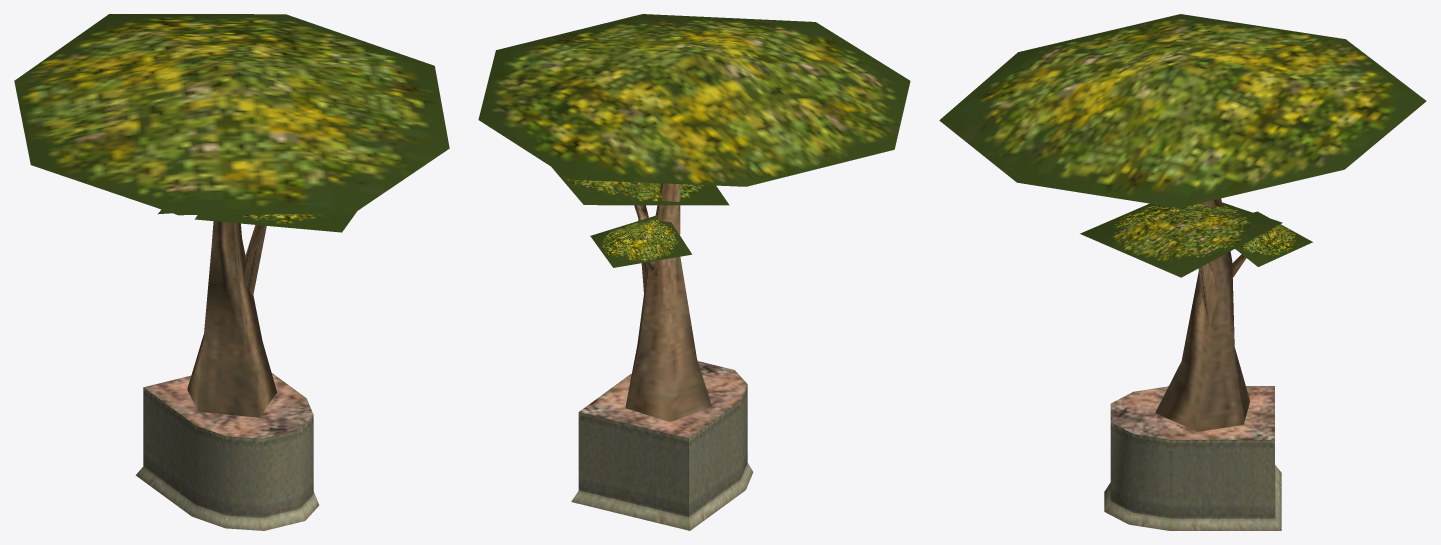
Rendered from frn_all_tree_potted_s1_l2.fbx.
3 views of the same model, side by side, from view 1: azimuth 30°, elevation 25°; view 2: azimuth 150°, elevation 25°; view 3: azimuth 270°, elevation 25° (orthographic).
Visible parts, largest first — view 1: mesh_node; view 2: mesh_node; view 3: mesh_node.
Boxes of the visible parts, <box> form: mesh_node: <box>14,14,449,530</box>; mesh_node: <box>478,14,910,530</box>; mesh_node: <box>939,14,1426,530</box>.
Size of the model in its own units: 2.36 by 2.42 by 2.49.
Materials: 2 (2 with a texture image).
